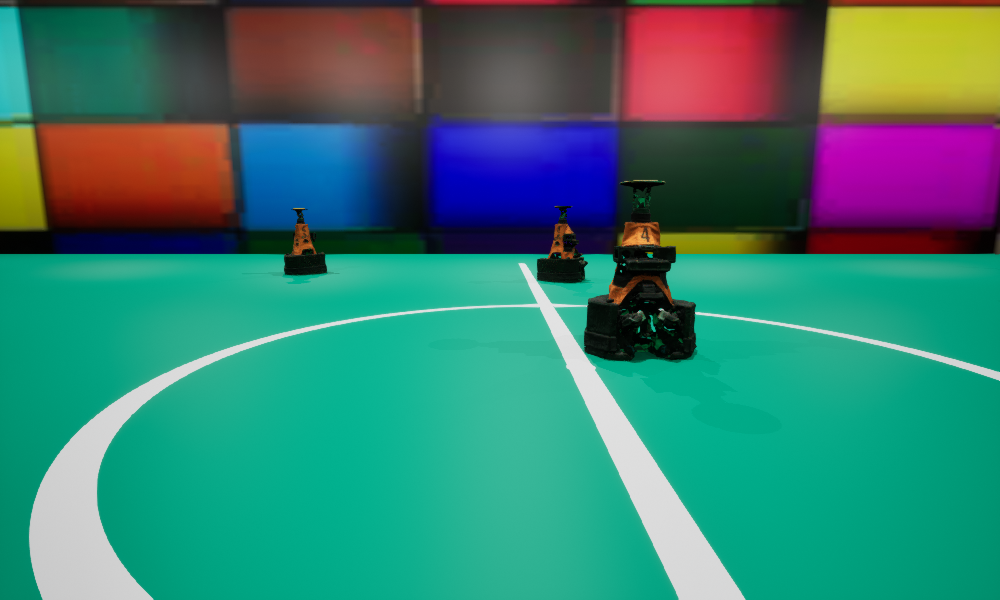0 orange robot TechUnited: (584, 180, 696, 360), (537, 206, 587, 282), (284, 208, 326, 274)
